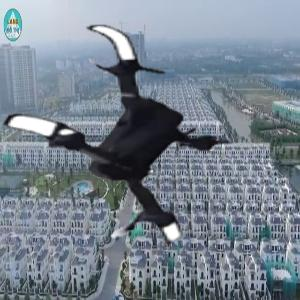drone: (1, 17, 259, 275)
